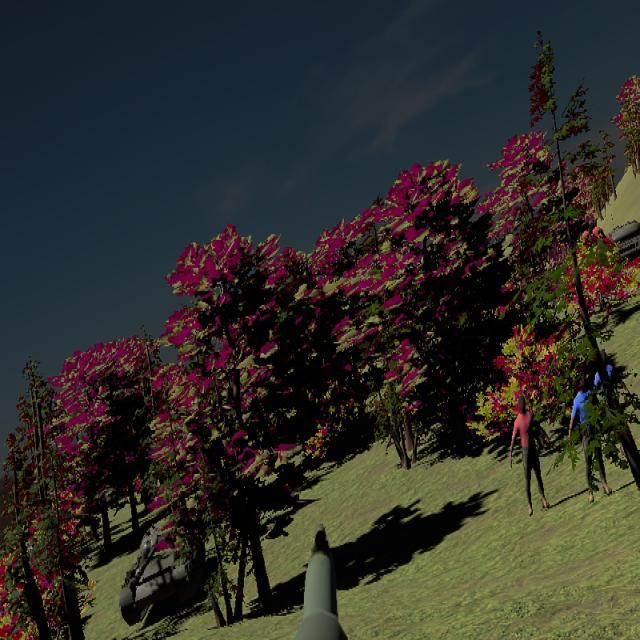Human: (509, 392, 550, 516)
Tank: (119, 523, 209, 624)
